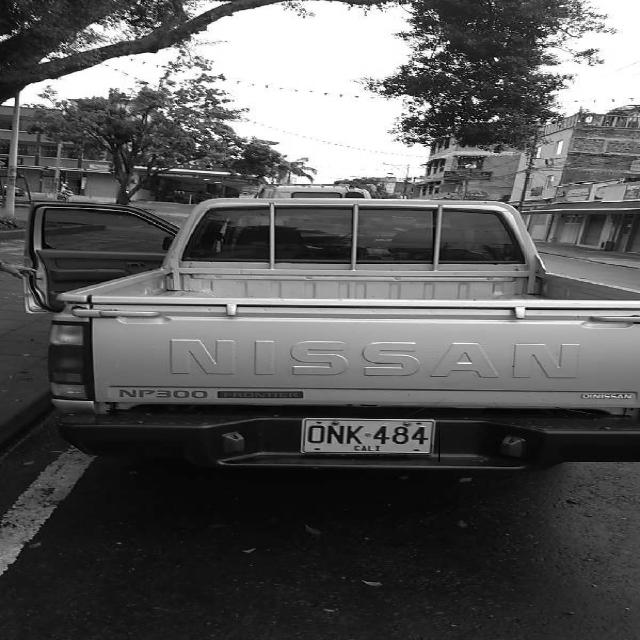plate: (299, 416, 440, 462)
